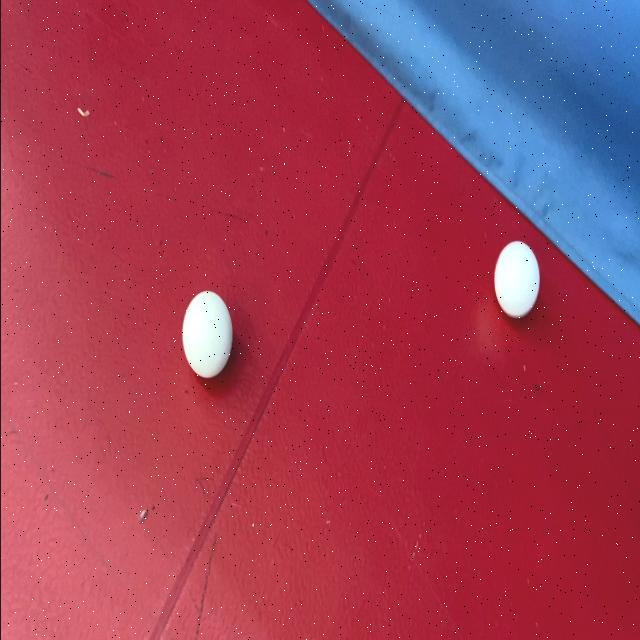ping-pong-ball: (180, 287, 236, 385), (490, 233, 542, 323)
